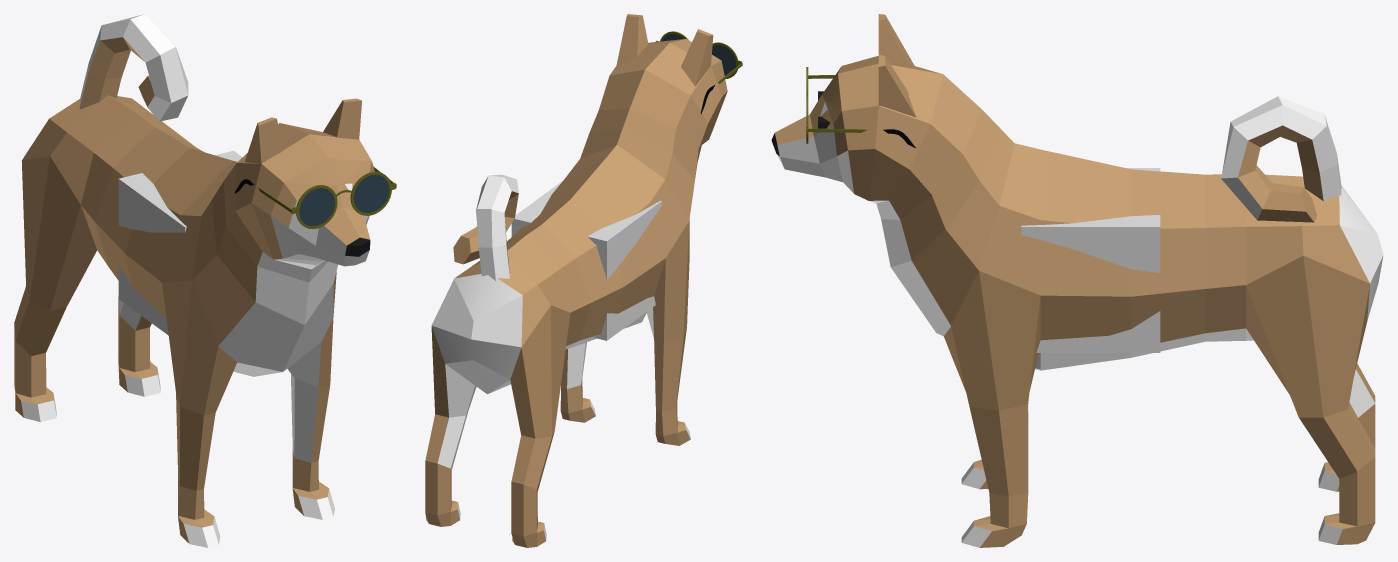
The model's file is shiba-glasses.glb.
3 renders of one model, left to right at view 1: azimuth 30°, elevation 25°; view 2: azimuth 150°, elevation 25°; view 3: azimuth 270°, elevation 25°, orthographic. The views are drawn at different scales.
Visible parts, largest first — view 1: Shiba, Shiba tail, Cube, glasses3.001, Shiba Ears r_ear, Shiba l_ear Ears; view 2: Shiba, Shiba tail, Cube, Shiba Ears r_ear, Shiba l_ear Ears, glasses3.001; view 3: Shiba, Shiba tail, Cube, Shiba l_ear Ears, Shiba Ears r_ear, glasses3.001.
Boxes of the visible parts, x1,y1,x2,y2 form: Shiba: (14,95,374,547); Shiba tail: (79,14,188,121); Cube: (118,150,242,335); glasses3.001: (235,166,396,228); Shiba Ears r_ear: (245,117,283,163); Shiba l_ear Ears: (323,98,361,139); Shiba: (425,39,727,547); Shiba tail: (453,174,518,280); Cube: (511,180,661,340); Shiba Ears r_ear: (681,29,713,86); Shiba l_ear Ears: (616,14,648,66); glasses3.001: (655,31,742,114); Shiba: (771,56,1383,547); Shiba tail: (1221,96,1341,222); Cube: (1021,168,1160,352); Shiba l_ear Ears: (878,55,916,117); Shiba Ears r_ear: (878,14,914,65); glasses3.001: (806,67,915,147).
Bounding box in the file's own units: 2.54 × 7.5 × 8.79.
Materials: 5 (1 with a texture image).
